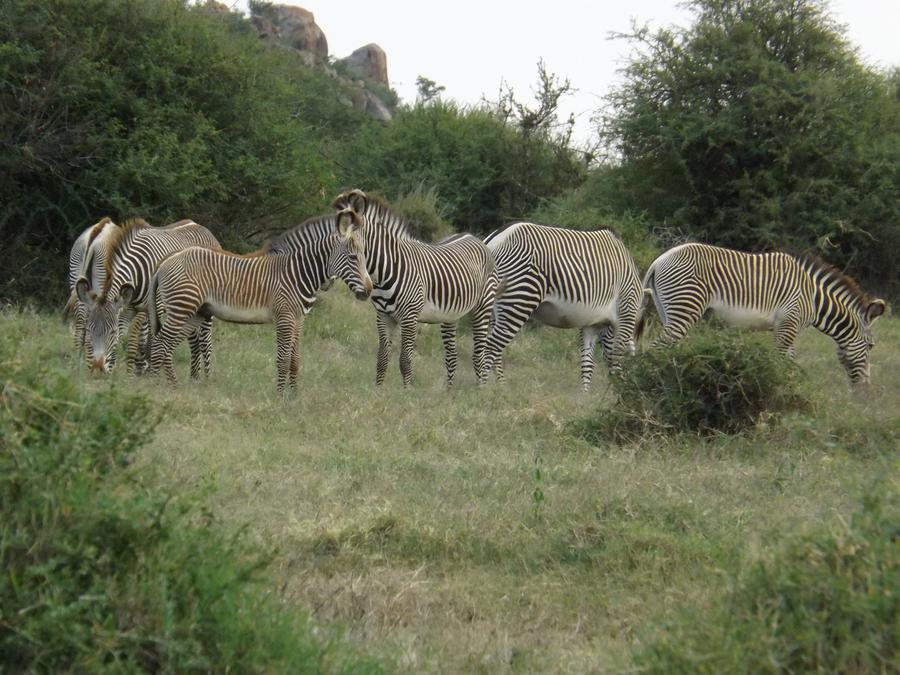zebra_grevys: (649, 234, 802, 336)
